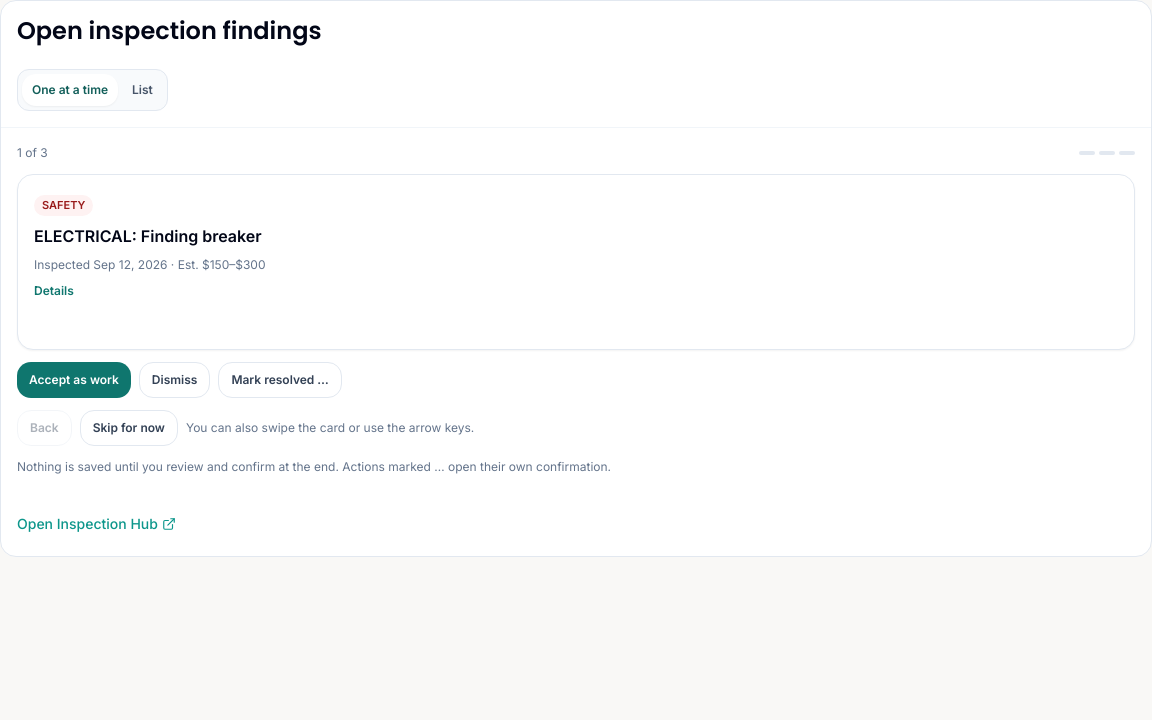
it: Details opens the live finding in the sheet, read-only, so decisions stay in the deck
The width and height of the screenshot is (1152, 720).
Click the button "Details": (54, 291) [34, 282, 74, 300]
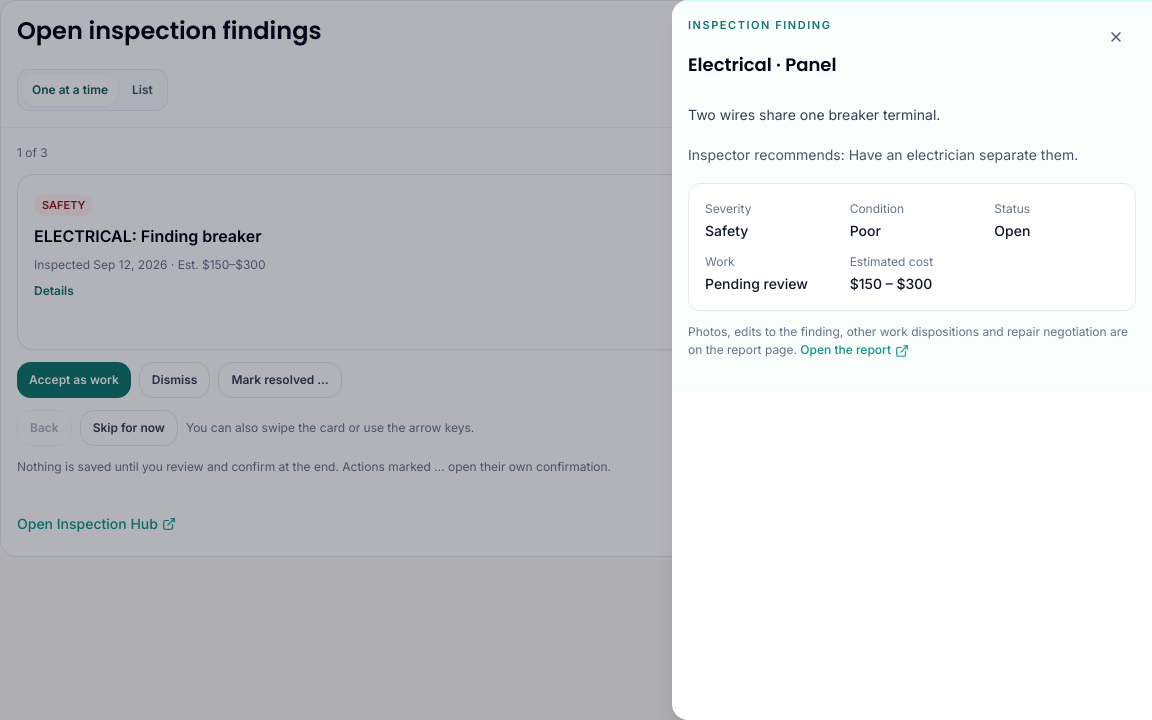
Expected: the text "Two wires share one breaker terminal." is shown, [688, 106, 940, 123]
